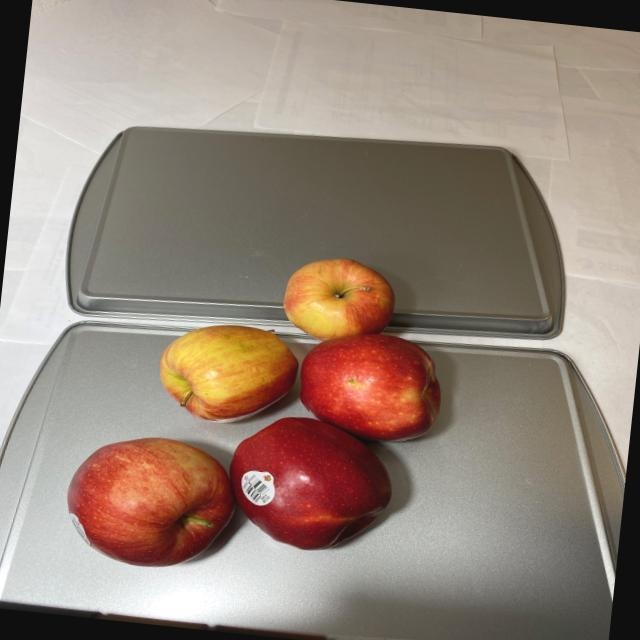apple: (61, 230, 457, 596)
